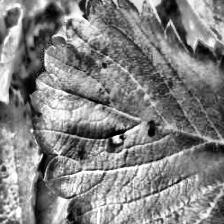Leaf Spot: (29, 0, 224, 224), (164, 0, 224, 145), (0, 83, 49, 224), (31, 178, 96, 224)
